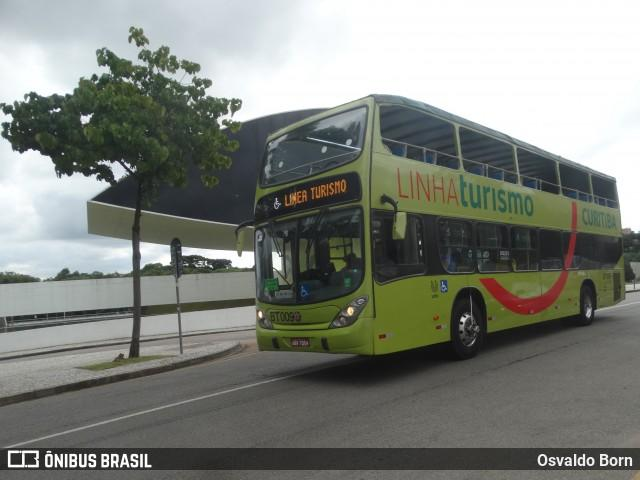LINER TURISMO: (279, 174, 351, 211)
